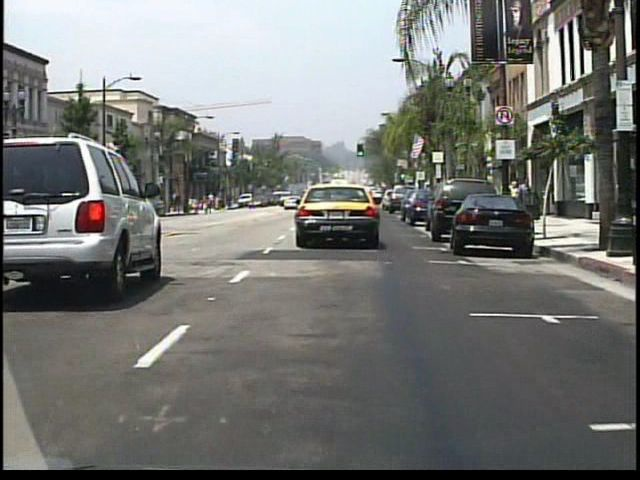person: (517, 173, 535, 222), (507, 179, 520, 216), (222, 195, 229, 211)
